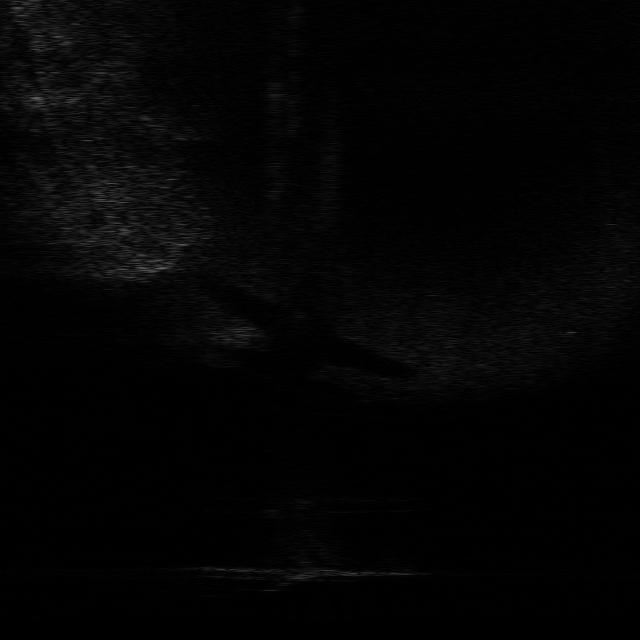plane: (188, 549, 442, 592)
